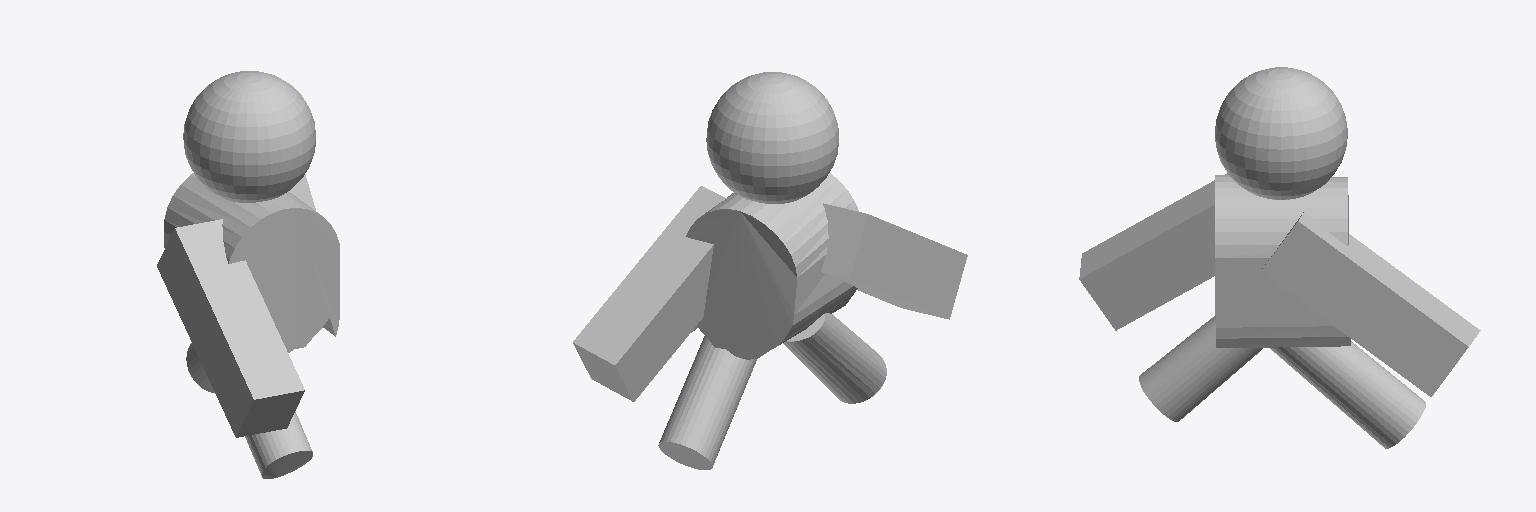
The model's file is Figurine146.obj.
The picture shows the model from 3 angles: view 1: azimuth 30°, elevation 25°; view 2: azimuth 150°, elevation 25°; view 3: azimuth 270°, elevation 25°; orthographic projection.
Parts seen in each view (by area): view 1: Cylinder; view 2: Cylinder; view 3: Cylinder.
Part boxes in pixels (x1,y1,x2,y2): Cylinder: (157, 71, 339, 478); Cylinder: (573, 72, 967, 469); Cylinder: (1079, 67, 1480, 448).
Size of the model in its own units: 3.49 by 5.95 by 6.02.